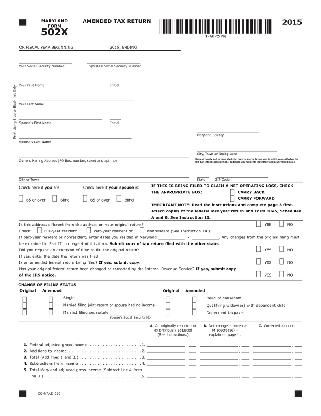checkbox: (191, 307, 198, 316), (82, 193, 88, 203), (230, 187, 236, 197), (279, 219, 285, 229), (86, 225, 92, 235), (22, 306, 28, 316), (165, 301, 171, 311), (18, 194, 24, 203), (52, 194, 58, 203), (116, 194, 122, 203), (230, 194, 236, 203), (256, 219, 262, 228), (37, 225, 43, 234), (139, 225, 145, 234), (256, 244, 262, 253), (279, 244, 285, 253), (256, 257, 262, 266), (279, 257, 285, 266), (256, 269, 262, 278), (279, 269, 285, 278), (22, 295, 28, 304), (22, 301, 28, 310), (48, 295, 54, 304), (48, 301, 54, 310), (48, 307, 54, 316), (165, 295, 171, 304), (165, 307, 171, 316), (191, 295, 197, 304), (192, 301, 198, 310)
textline: (17, 147, 191, 158), (17, 167, 191, 178), (20, 92, 134, 102), (18, 129, 131, 139), (18, 111, 103, 121), (18, 75, 104, 83), (195, 123, 258, 133), (195, 145, 276, 152), (17, 56, 74, 64), (86, 56, 143, 64), (216, 170, 273, 178), (108, 308, 152, 316), (199, 339, 239, 347), (199, 353, 239, 361), (200, 371, 240, 379), (252, 353, 292, 361), (147, 358, 186, 366), (147, 371, 186, 379), (253, 371, 292, 379), (146, 340, 186, 347), (252, 340, 292, 347), (146, 353, 186, 360), (200, 347, 240, 354), (200, 359, 240, 366), (252, 347, 292, 354), (147, 346, 186, 353), (253, 360, 292, 367), (100, 251, 130, 259), (74, 43, 108, 50), (139, 43, 173, 50), (156, 232, 185, 240), (191, 233, 220, 240), (196, 168, 211, 178), (108, 74, 123, 83), (108, 112, 123, 121), (188, 370, 198, 379), (188, 347, 197, 355), (188, 352, 197, 360), (188, 358, 197, 366), (294, 371, 303, 379), (241, 347, 251, 354), (241, 353, 251, 360), (241, 372, 251, 379), (188, 340, 197, 347), (241, 340, 250, 347), (294, 340, 303, 347), (241, 359, 250, 366), (294, 347, 303, 354), (294, 353, 303, 360), (294, 359, 303, 366)
